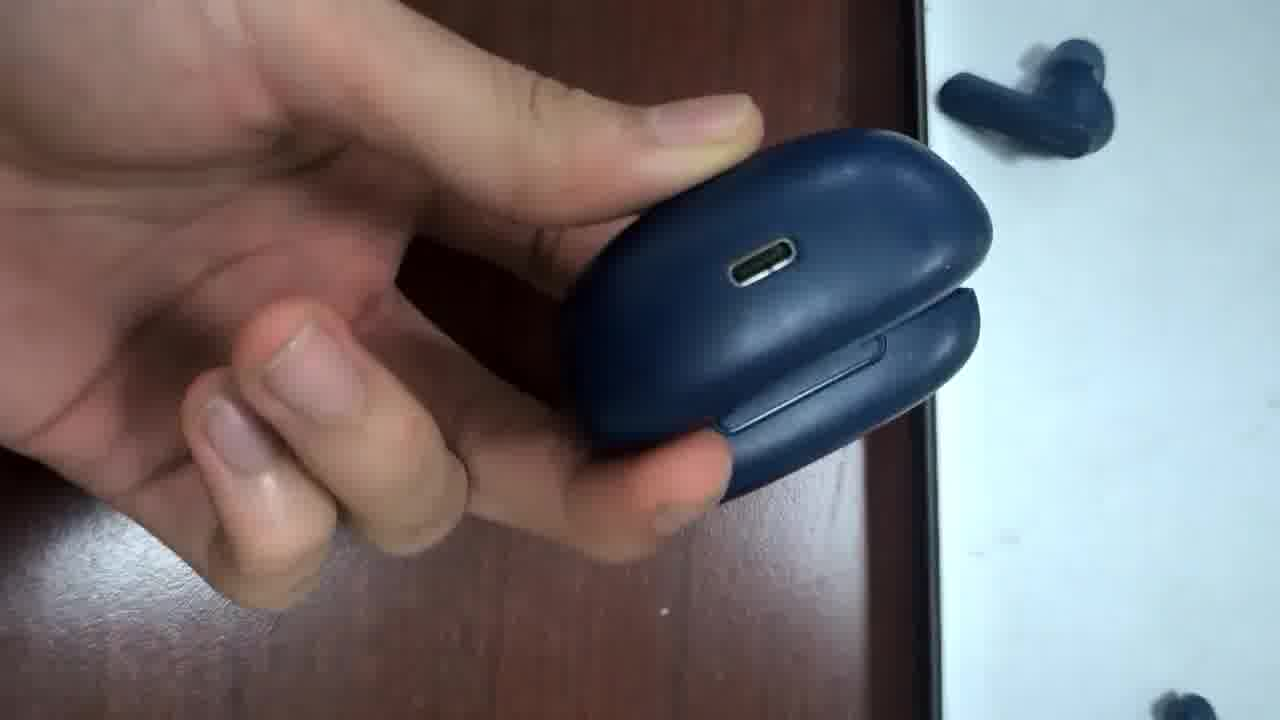Case: (587, 101, 989, 500)
Earbud: (937, 39, 1113, 157)
